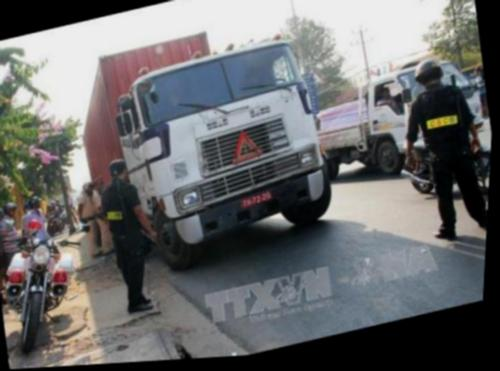License_Plate: (238, 186, 268, 212)
